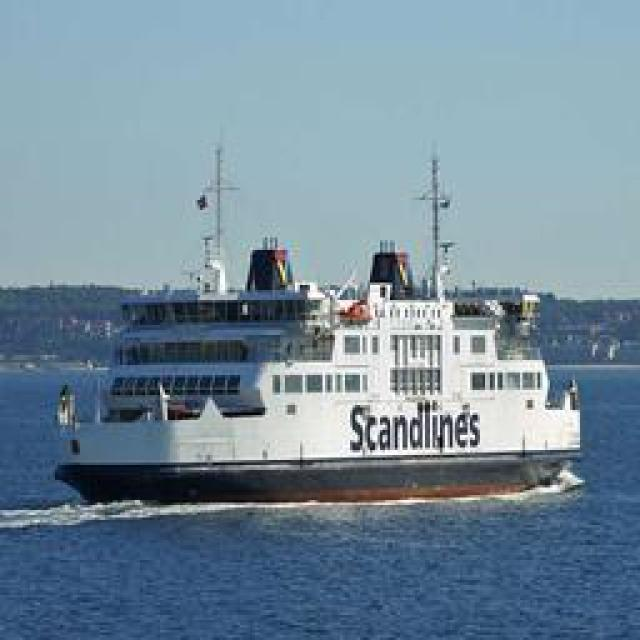ship2: (52, 143, 582, 510)
